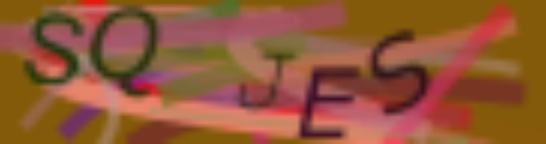E: (291, 63, 364, 144)
J: (232, 48, 297, 111)
Q: (87, 3, 166, 100)
S: (366, 23, 435, 119), (21, 9, 87, 90)
